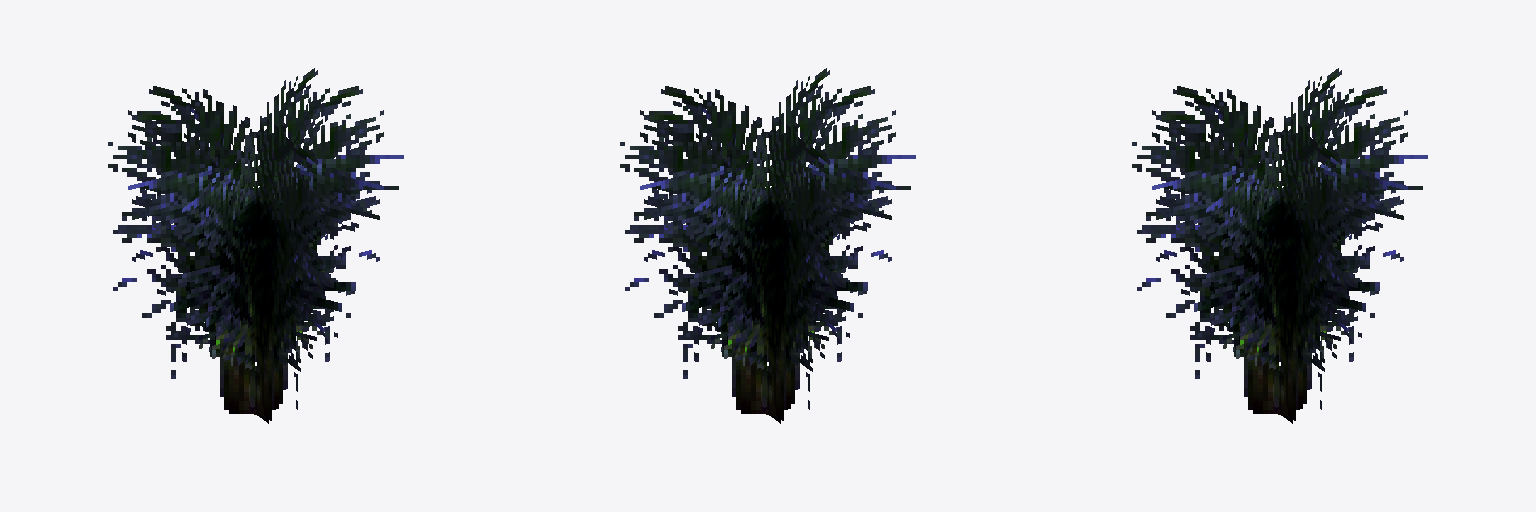
3 renders of one model, left to right at view 1: azimuth 30°, elevation 25°; view 2: azimuth 150°, elevation 25°; view 3: azimuth 270°, elevation 25°, orthographic.
Parts seen in each view (by area): view 1: kust.001; view 2: kust.001; view 3: kust.001.
Part boxes in pixels (x1,y1,x2,y2): kust.001: (108,68,403,423); kust.001: (620,68,915,423); kust.001: (1132,68,1427,423).
Bounding box in the file's own units: 0.6206 × 0.6875 × 0.6206.
1 materials, 1 textured.